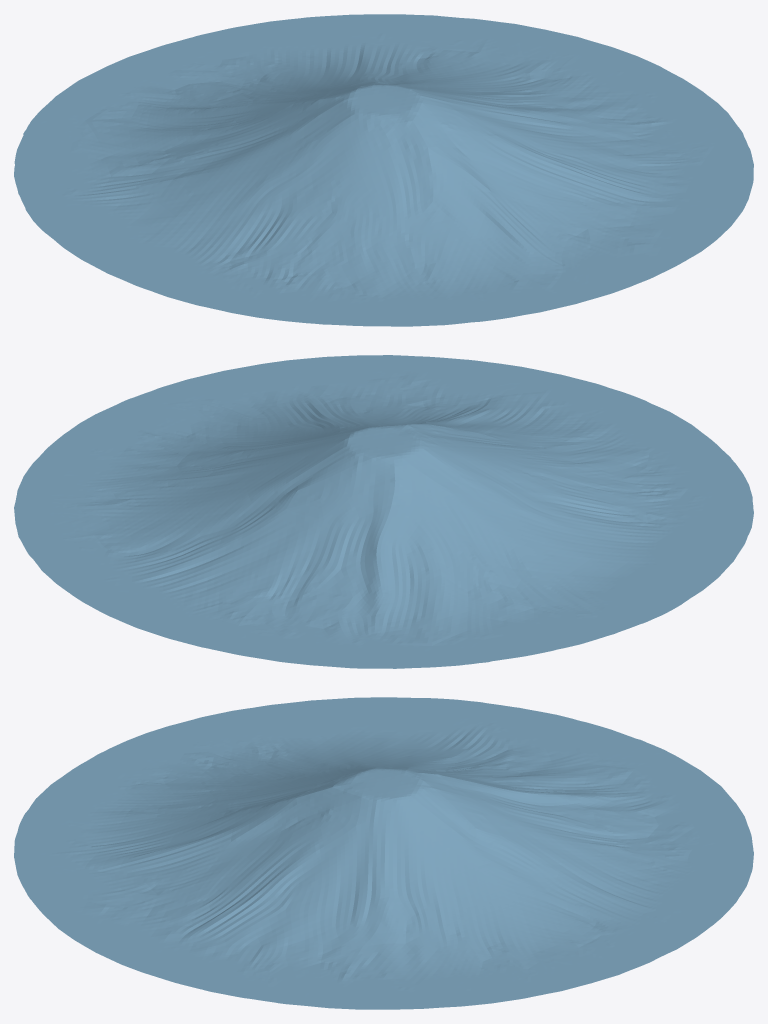
Rendered from level_3.glb.
3 views of the same model, one above another, from view 1: azimuth 30°, elevation 25°; view 2: azimuth 150°, elevation 25°; view 3: azimuth 270°, elevation 25° (orthographic).
Visible parts, largest first — view 1: world; view 2: world; view 3: world.
Part boxes in pixels (x1,y1,x2,y2): world: [14, 14, 753, 326]; world: [14, 355, 753, 668]; world: [14, 697, 753, 1009].
Bounding box in the file's own units: 0.639 × 0.0675 × 0.6394.
